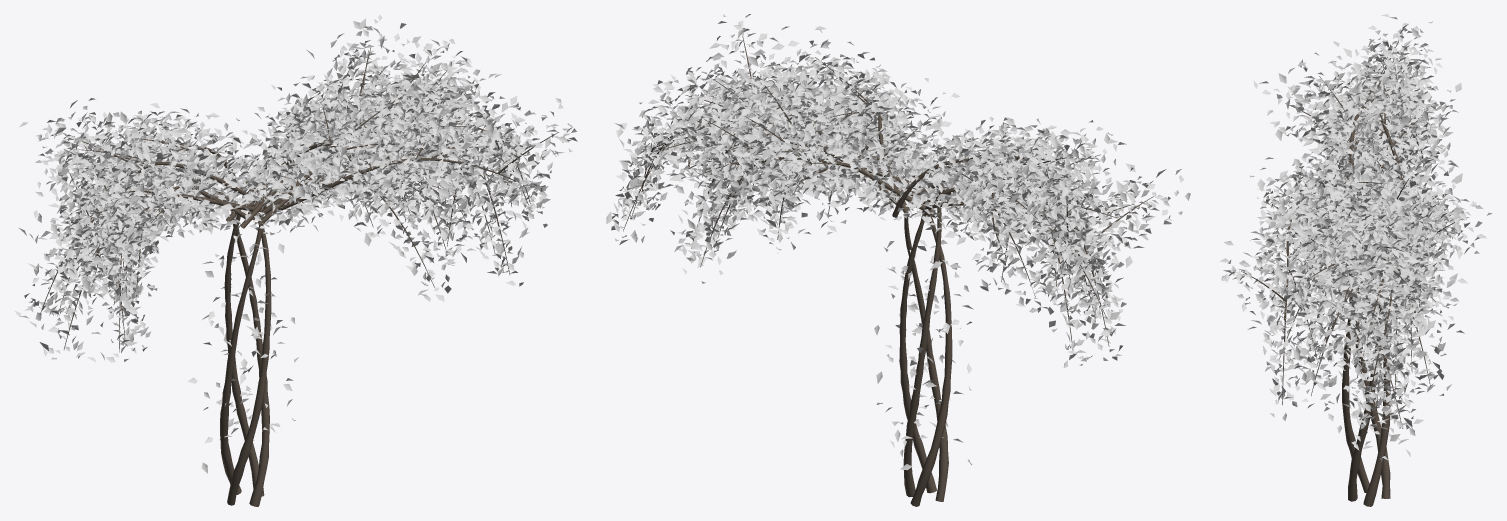
The model's file is enredadera_techo_bedelia.glb.
3 views of the same model, side by side, from view 1: azimuth 30°, elevation 25°; view 2: azimuth 150°, elevation 25°; view 3: azimuth 270°, elevation 25° (orthographic). The views are drawn at different scales.
Parts seen in each view (by area): view 1: Enredadera_Techo_Bedelia; view 2: Enredadera_Techo_Bedelia; view 3: Enredadera_Techo_Bedelia.
Boxes of the visible parts, x1,y1,x2,y2 form: Enredadera_Techo_Bedelia: [14, 14, 577, 506]; Enredadera_Techo_Bedelia: [606, 14, 1190, 506]; Enredadera_Techo_Bedelia: [1219, 14, 1492, 506].
Bounding box in the file's own units: 4.78 × 3.77 × 2.24.
